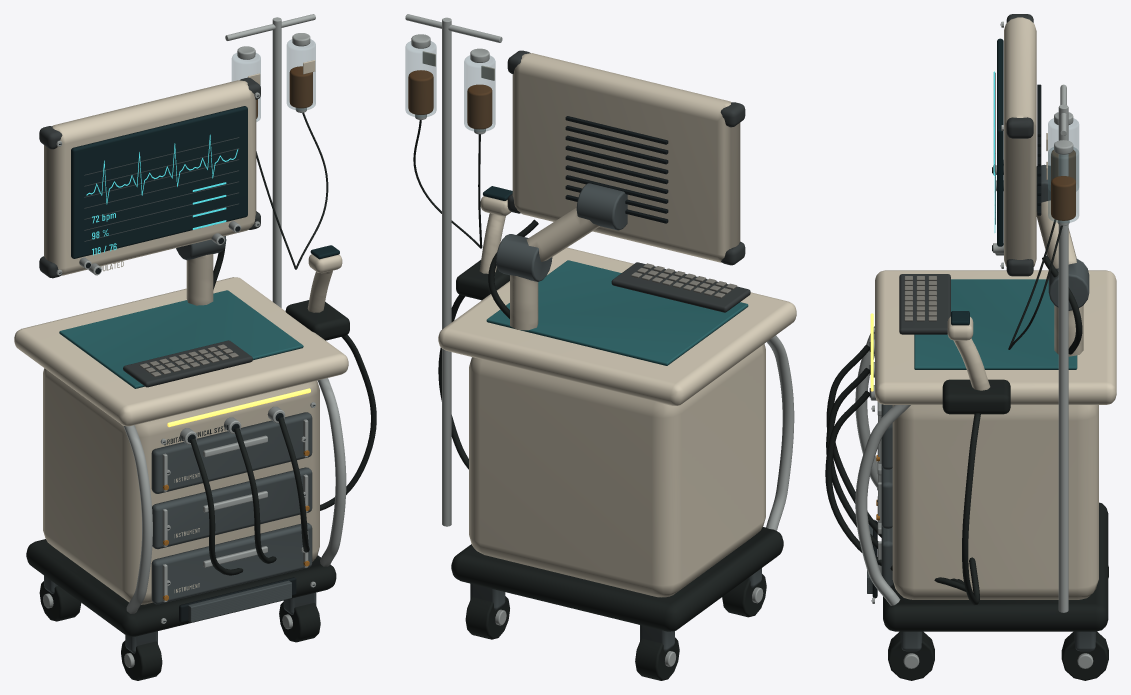
The model's file is equipment-standard.glb.
3 renders of one model, left to right at view 1: azimuth 30°, elevation 25°; view 2: azimuth 150°, elevation 25°; view 3: azimuth 270°, elevation 25°, orthographic. The views are drawn at different scales.
Visible parts, largest first — view 1: equipment__Ceramic medical shell, equipment__Recessed titanium panels, equipment__Dark optical glass, equipment__Restraint webbing, equipment__Satin aluminium, equipment__Medical upholstery, equipment__Coated pressure frame, equipment__Thin optical glazing, equipment__Instrument display ink, equipment__Graphite enamel, equipment__Amber supply vial, equipment__Recess and gasket (+1 smaller); view 2: equipment__Ceramic medical shell, equipment__Restraint webbing, equipment__Medical upholstery, equipment__Satin aluminium, equipment__Recessed titanium panels, equipment__Recess and gasket, equipment__Thin optical glazing, equipment__Coated pressure frame, equipment__Amber supply vial, equipment__Graphite enamel; view 3: equipment__Ceramic medical shell, equipment__Restraint webbing, equipment__Satin aluminium, equipment__Medical upholstery, equipment__Recessed titanium panels, equipment__Coated pressure frame, equipment__Thin optical glazing, equipment__Dark optical glass, equipment__Amber supply vial, equipment__Graphite enamel, equipment__Recess and gasket.
Boxes of the visible parts, x1,y1,x2,y2 form: equipment__Ceramic medical shell: [14, 60, 348, 604]; equipment__Recessed titanium panels: [44, 137, 316, 653]; equipment__Dark optical glass: [71, 106, 339, 259]; equipment__Restraint webbing: [26, 112, 376, 680]; equipment__Satin aluminium: [43, 14, 346, 667]; equipment__Medical upholstery: [59, 290, 303, 388]; equipment__Coated pressure frame: [39, 77, 260, 387]; equipment__Thin optical glazing: [232, 39, 315, 121]; equipment__Instrument display ink: [86, 134, 238, 255]; equipment__Graphite enamel: [139, 344, 238, 376]; equipment__Amber supply vial: [256, 66, 312, 118]; equipment__Recess and gasket: [59, 95, 315, 622]; equipment__Ceramic medical shell: [422, 51, 796, 597]; equipment__Restraint webbing: [413, 120, 783, 680]; equipment__Medical upholstery: [486, 260, 748, 365]; equipment__Satin aluminium: [405, 14, 794, 666]; equipment__Recessed titanium panels: [470, 183, 761, 651]; equipment__Recess and gasket: [565, 116, 668, 223]; equipment__Thin optical glazing: [405, 41, 495, 131]; equipment__Coated pressure frame: [507, 50, 750, 312]; equipment__Amber supply vial: [408, 70, 492, 129]; equipment__Graphite enamel: [631, 263, 737, 298]; equipment__Ceramic medical shell: [875, 17, 1116, 599]; equipment__Restraint webbing: [825, 219, 1108, 680]; equipment__Satin aluminium: [855, 21, 1093, 668]; equipment__Medical upholstery: [914, 279, 1077, 369]; equipment__Recessed titanium panels: [867, 72, 1096, 651]; equipment__Coated pressure frame: [899, 14, 1033, 334]; equipment__Thin optical glazing: [1048, 118, 1079, 222]; equipment__Dark optical glass: [951, 38, 1003, 325]; equipment__Amber supply vial: [1051, 150, 1075, 220]; equipment__Graphite enamel: [904, 276, 936, 321]; equipment__Recess and gasket: [869, 24, 1041, 601].
Size of the model in its own units: 1.4 by 2.42 by 1.07.
